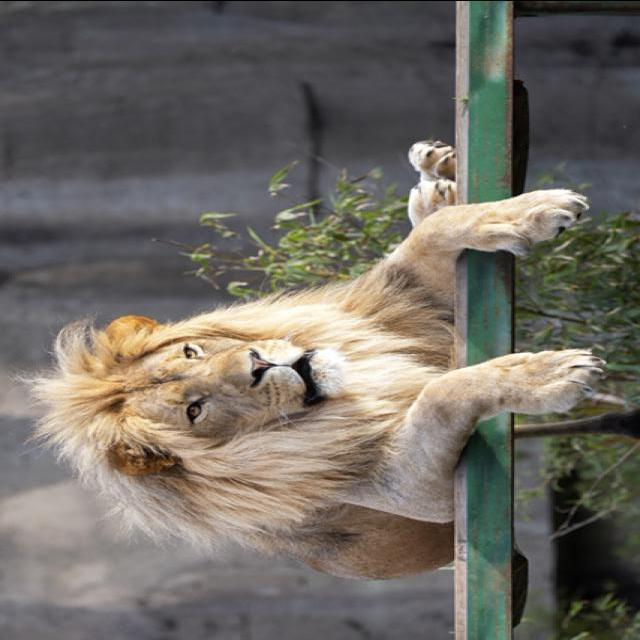lions: (0, 106, 640, 640)
